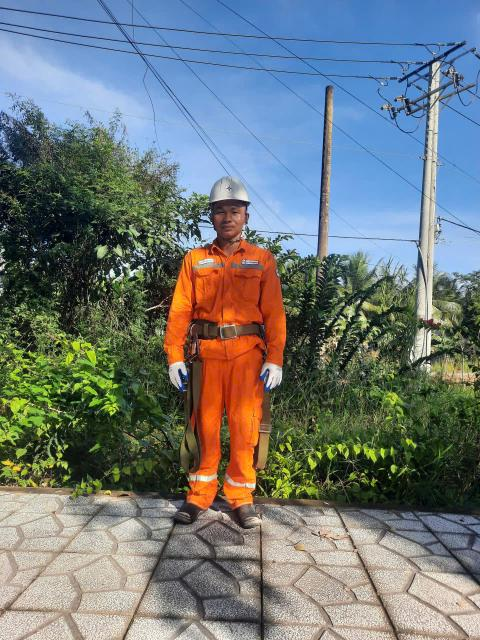gloves: (253, 356, 289, 389), (165, 358, 197, 395)
harness: (179, 309, 277, 349)
helmet: (200, 171, 256, 213)
shoes: (171, 491, 215, 526), (224, 498, 263, 532)
